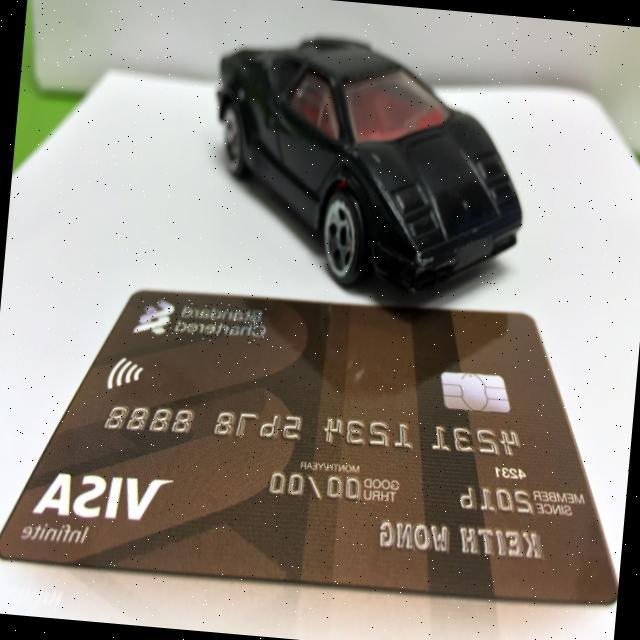Standard Chartered: (133, 295, 268, 347)
